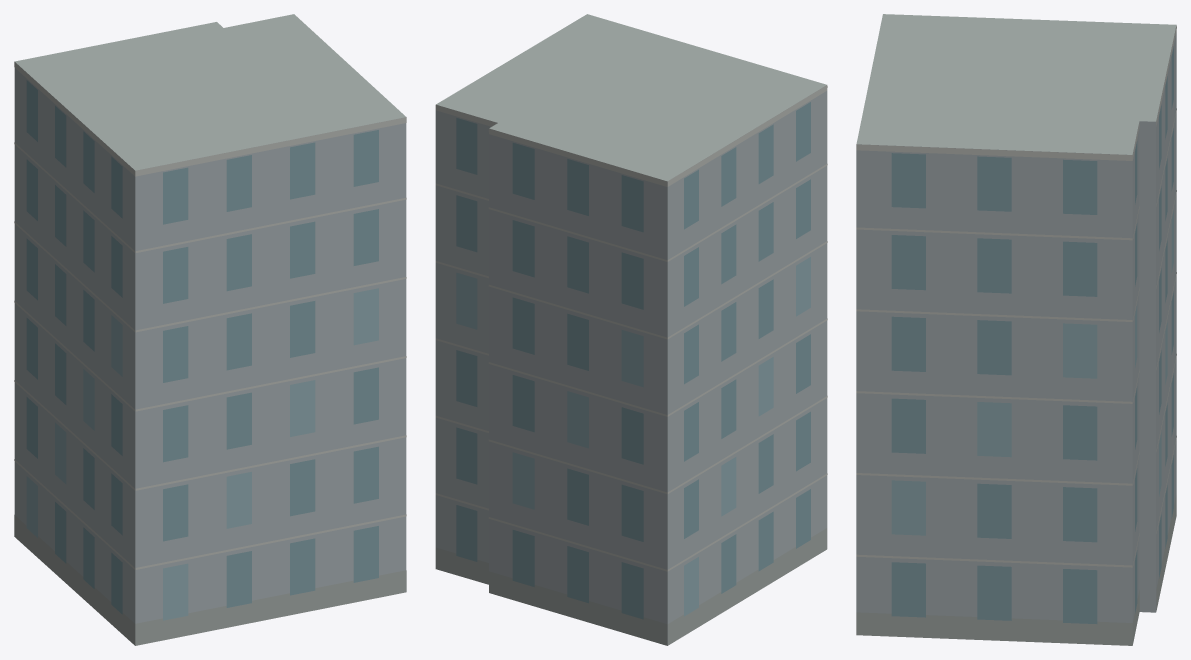
File: survey-upis-32803063.glb
3 views of the same model, side by side, from view 1: azimuth 30°, elevation 25°; view 2: azimuth 150°, elevation 25°; view 3: azimuth 270°, elevation 25° (orthographic). The views are drawn at different scales.
Visible parts, largest first — view 1: survey-upis-32803063.tmp; view 2: survey-upis-32803063.tmp; view 3: survey-upis-32803063.tmp.
Part boxes in pixels (x1,y1,x2,y2): survey-upis-32803063.tmp: (14,14,406,645); survey-upis-32803063.tmp: (435,14,827,645); survey-upis-32803063.tmp: (856,14,1176,645).
Bounding box in the file's own units: 12.16 × 19.7 × 11.67.
